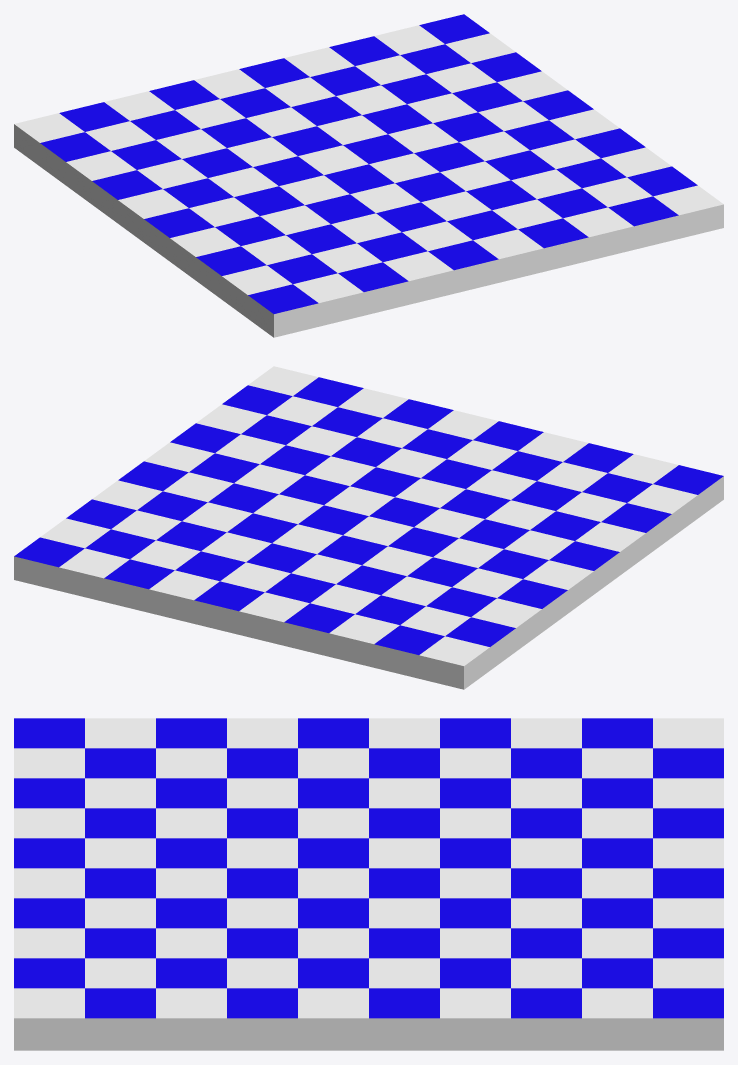
The picture shows the model from 3 angles, top to bottom: view 1: azimuth 30°, elevation 25°; view 2: azimuth 150°, elevation 25°; view 3: azimuth 270°, elevation 25°; orthographic projection. The views are drawn at different scales.
Visible parts, largest first — view 1: pCube1; view 2: pCube1; view 3: pCube1.
Part boxes in pixels (<box>): pCube1: <box>14,14,723,337</box>; pCube1: <box>14,366,723,689</box>; pCube1: <box>14,718,723,1050</box>.
Size of the model in its own units: 2 by 0.1 by 2.
1 material, 1 textured.
